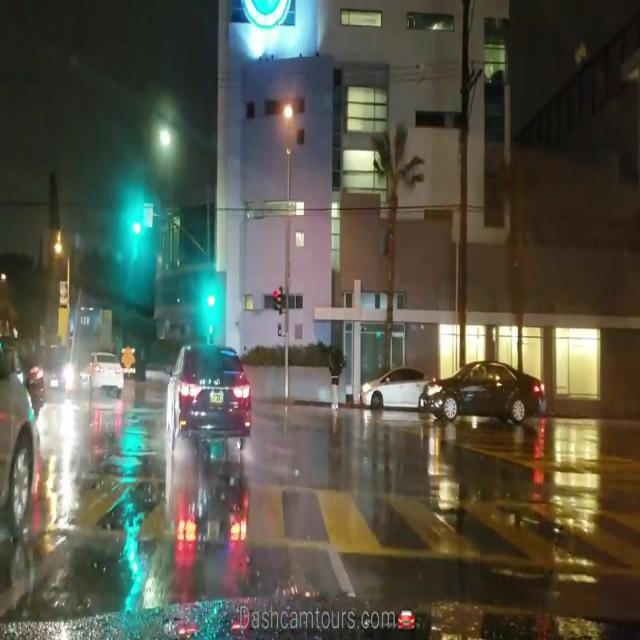Car: (165, 342, 252, 442), (417, 359, 542, 423), (358, 364, 420, 408), (80, 351, 124, 396)
